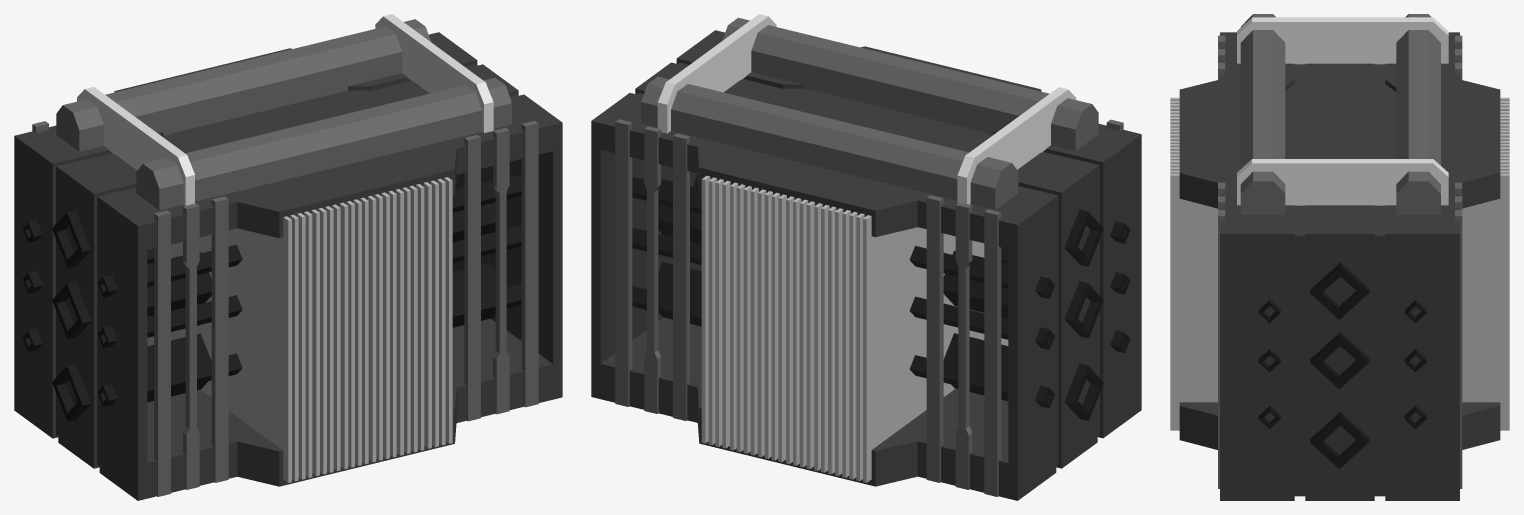
The model's file is generator_A.FBX.
The picture shows the model from 3 angles, left to right: view 1: azimuth 30°, elevation 25°; view 2: azimuth 150°, elevation 25°; view 3: azimuth 270°, elevation 25°; orthographic projection. The views are drawn at different scales.
Visible parts, largest first — view 1: generator_A, generator_A_glow; view 2: generator_A, generator_A_glow; view 3: generator_A, generator_A_glow.
Part boxes in pixels (left/top/right/bottom): generator_A: left=14, top=14, right=562, bottom=500; generator_A_glow: left=56, top=64, right=516, bottom=465; generator_A: left=591, top=14, right=1141, bottom=500; generator_A_glow: left=637, top=62, right=1099, bottom=465; generator_A: left=1170, top=14, right=1509, bottom=500; generator_A_glow: left=1285, top=64, right=1396, bottom=496.
Bounding box in the file's own units: 162 × 111 × 111.
